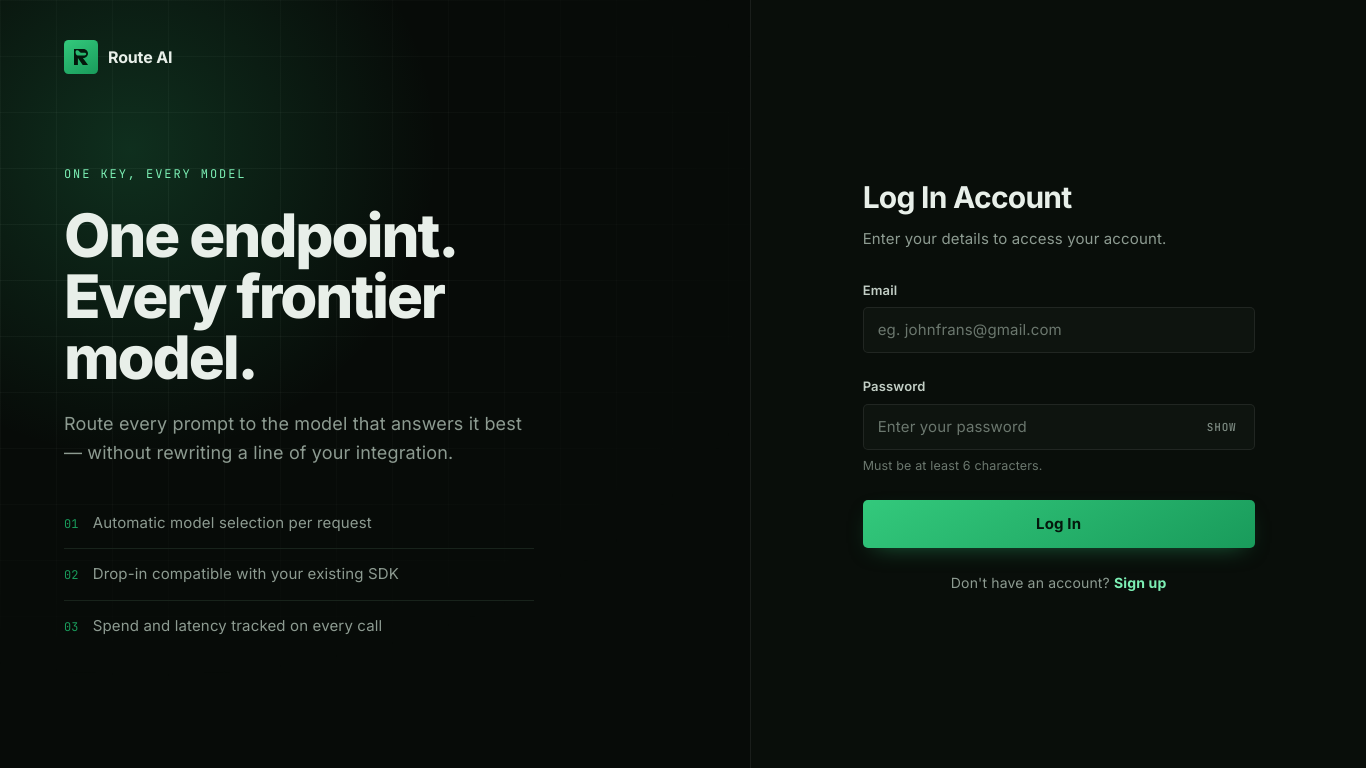
Login › client-side validation › blocks submission and reports both fields when empty
Step 1. Click the button "Log In" → (1059, 524), box left=863, top=500, right=1255, bottom=548
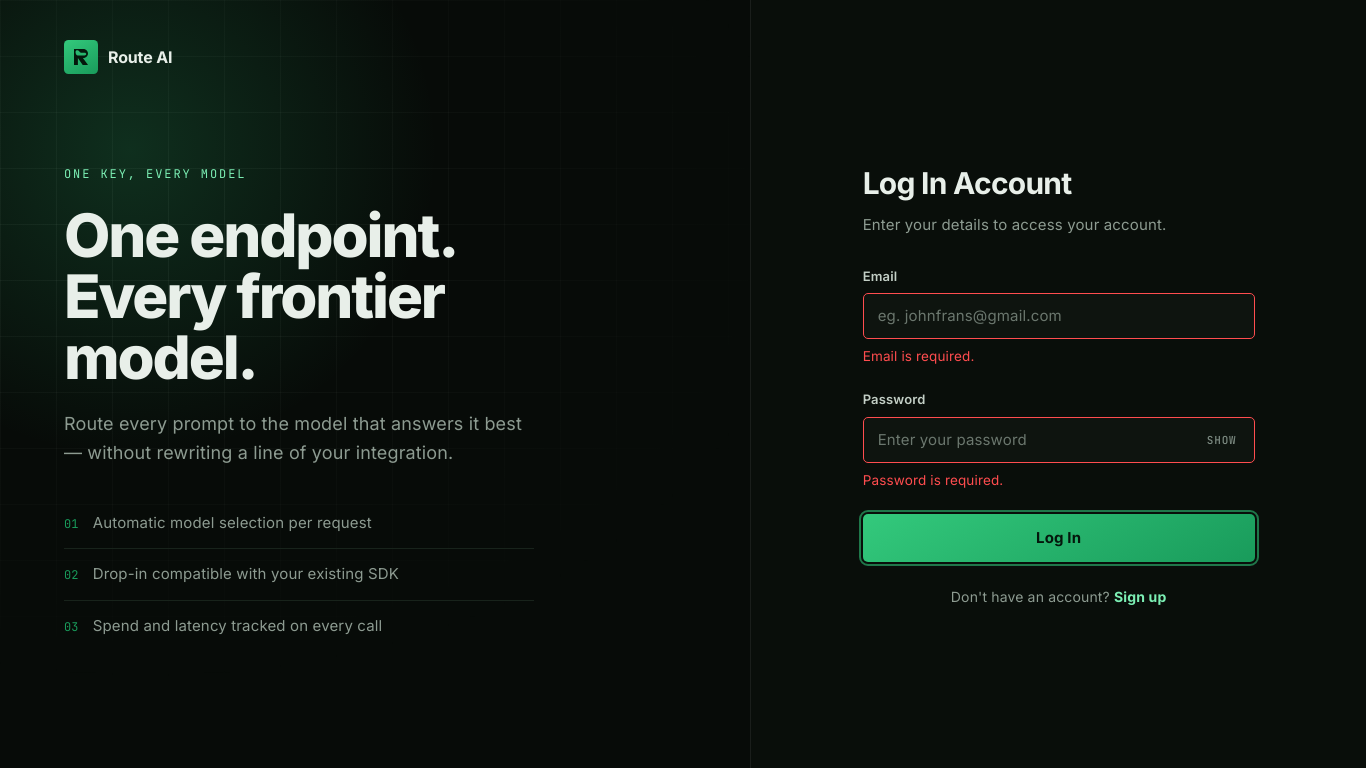
Expected: the text "Email is required." is shown, left=863, top=348, right=974, bottom=364
Expected: the text "Password is required." is shown, left=863, top=472, right=1003, bottom=488
